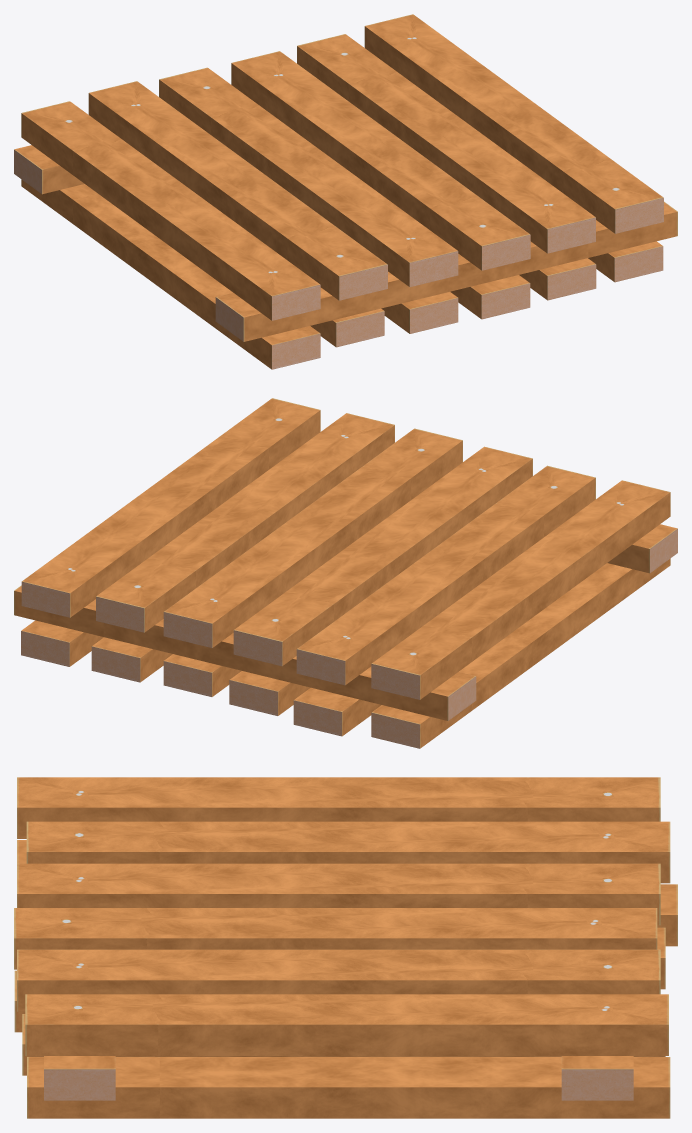
File: Pallet_2.fbx
3 renders of one model, top to bottom at view 1: azimuth 30°, elevation 25°; view 2: azimuth 150°, elevation 25°; view 3: azimuth 270°, elevation 25°, orthographic. The views are drawn at different scales.
Parts seen in each view (by area): view 1: Pallet_2; view 2: Pallet_2; view 3: Pallet_2.
Part boxes in pixels (box(x1,y1,x2,y2)): Pallet_2: box(14, 14, 677, 369); Pallet_2: box(14, 398, 677, 748); Pallet_2: box(14, 777, 677, 1118).
Bounding box in the file's own units: 0.9842 × 0.1588 × 1.02.
